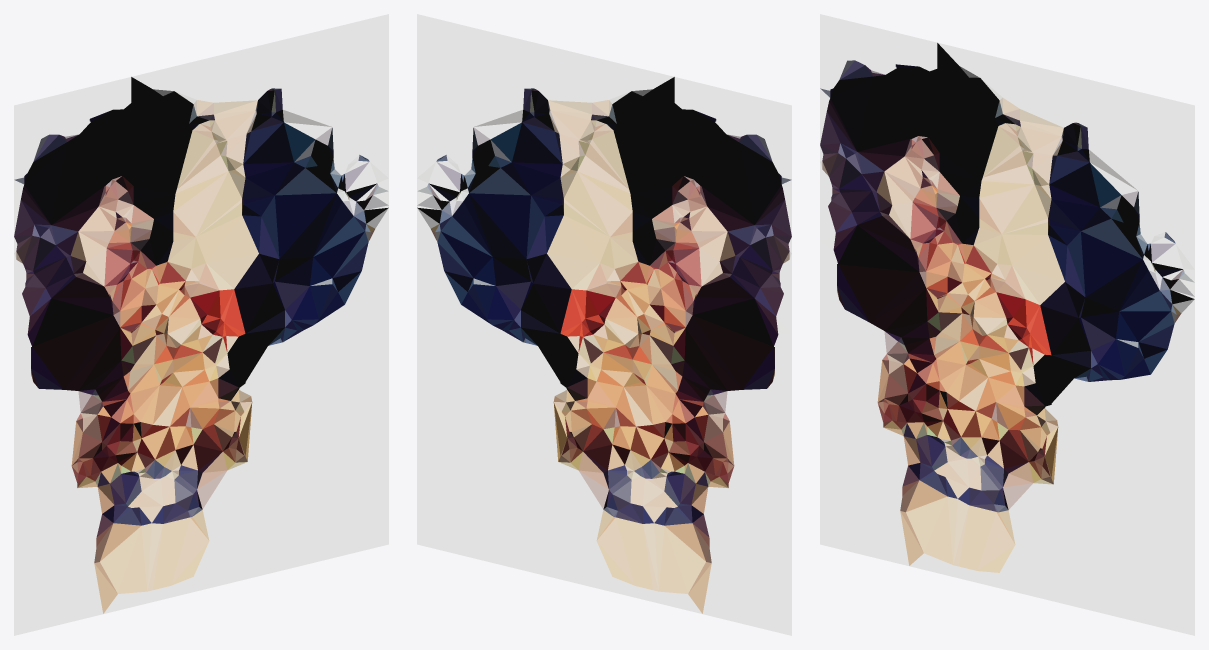
3 views of the same model, side by side, from view 1: azimuth 30°, elevation 25°; view 2: azimuth 150°, elevation 25°; view 3: azimuth 330°, elevation 25° (orthographic).
Parts seen in each view (by area): view 1: triangle_884, triangle_889, triangle_887, triangle_724, triangle_821, triangle_918, triangle_885, triangle_778, triangle_215, triangle_158, triangle_815, triangle_149 (+75 smaller); view 2: triangle_884, triangle_889, triangle_887, triangle_724, triangle_821, triangle_918, triangle_885, triangle_778, triangle_215, triangle_158, triangle_815, triangle_149 (+75 smaller); view 3: triangle_884, triangle_889, triangle_887, triangle_724, triangle_821, triangle_918, triangle_885, triangle_778, triangle_215, triangle_158, triangle_815, triangle_149 (+74 smaller).
Part boxes in pixels (x1,y1,x2,y2): triangle_884: [248, 443, 388, 564]; triangle_889: [252, 330, 388, 401]; triangle_887: [247, 400, 388, 461]; triangle_724: [209, 462, 264, 574]; triangle_821: [282, 26, 339, 126]; triangle_918: [332, 26, 388, 126]; triangle_885: [306, 443, 388, 563]; triangle_778: [248, 463, 303, 574]; triangle_215: [32, 315, 112, 389]; triangle_158: [14, 488, 96, 550]; triangle_815: [275, 193, 336, 258]; triangle_149: [14, 563, 93, 620]; triangle_884: [417, 443, 557, 564]; triangle_889: [417, 330, 553, 401]; triangle_887: [417, 400, 558, 461]; triangle_724: [541, 462, 596, 574]; triangle_821: [466, 26, 523, 126]; triangle_918: [417, 26, 473, 126]; triangle_885: [417, 443, 499, 563]; triangle_778: [502, 463, 557, 574]; triangle_215: [693, 315, 773, 389]; triangle_158: [709, 488, 791, 550]; triangle_815: [469, 193, 530, 258]; triangle_149: [712, 563, 791, 620]; triangle_884: [1054, 485, 1194, 615]; triangle_889: [1058, 380, 1194, 464]; triangle_887: [1053, 427, 1194, 491]; triangle_724: [1015, 485, 1070, 604]; triangle_821: [1088, 93, 1145, 190]; triangle_918: [1138, 94, 1194, 190]; triangle_885: [1112, 534, 1194, 615]; triangle_778: [1054, 485, 1109, 614]; triangle_215: [838, 264, 918, 322]; triangle_158: [820, 428, 902, 486]; triangle_815: [1081, 231, 1142, 296]; triangle_149: [820, 509, 899, 558].
Size of the model in its own units: 332 by 449 by 0.
